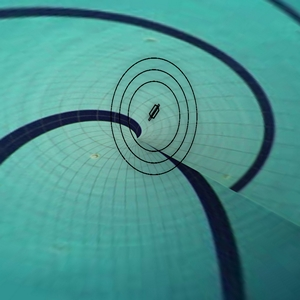circle: (101, 48, 216, 186)
submarine: (145, 99, 166, 126)
